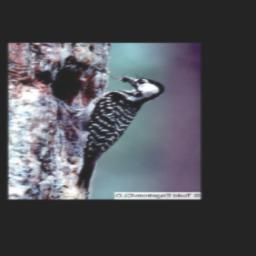Woodpecker: (64, 73, 166, 189)
